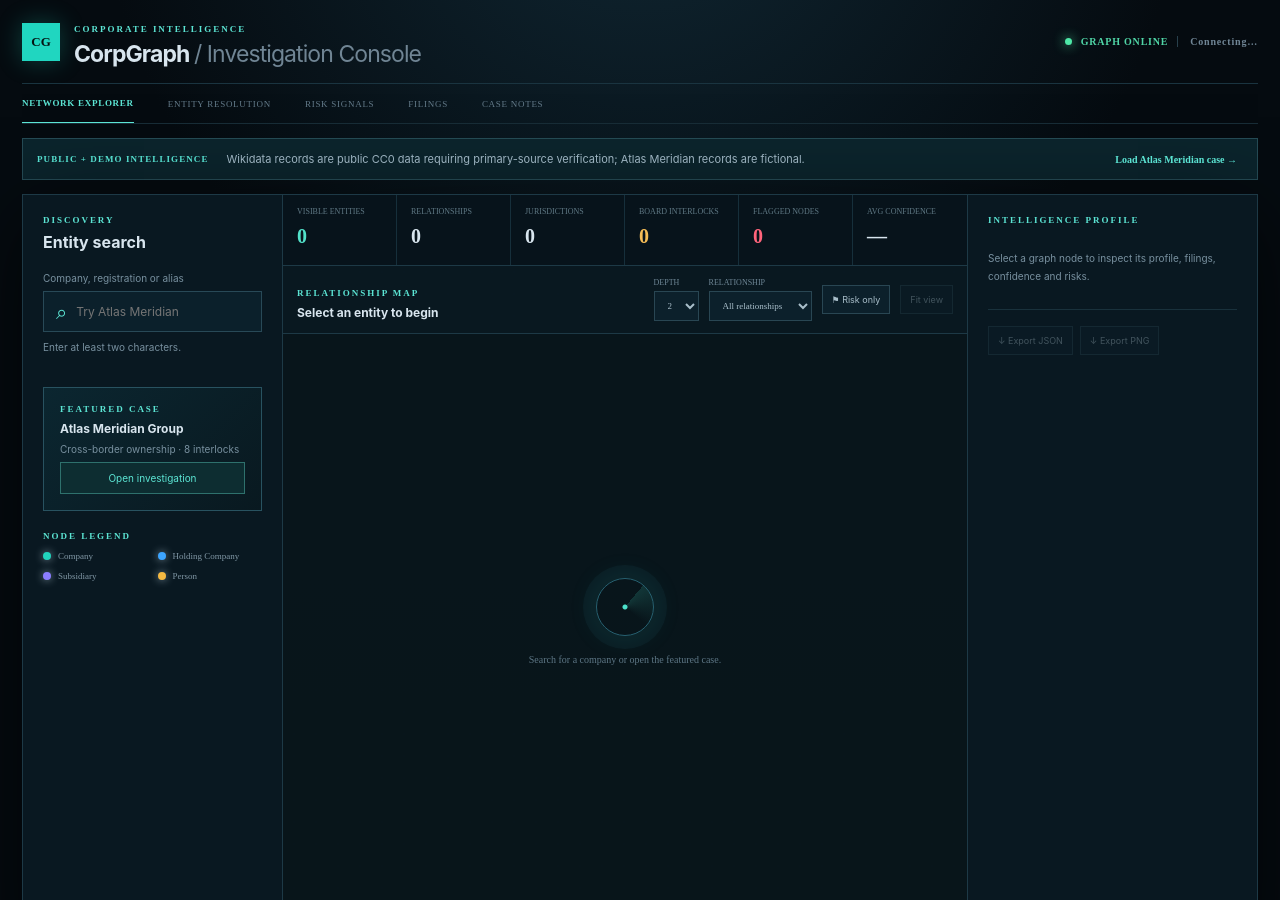
reports network HTTP failures
This screenshot has width=1280, height=900.
Click the button "Open investigation" at (152, 478), box [60,462,245,494]
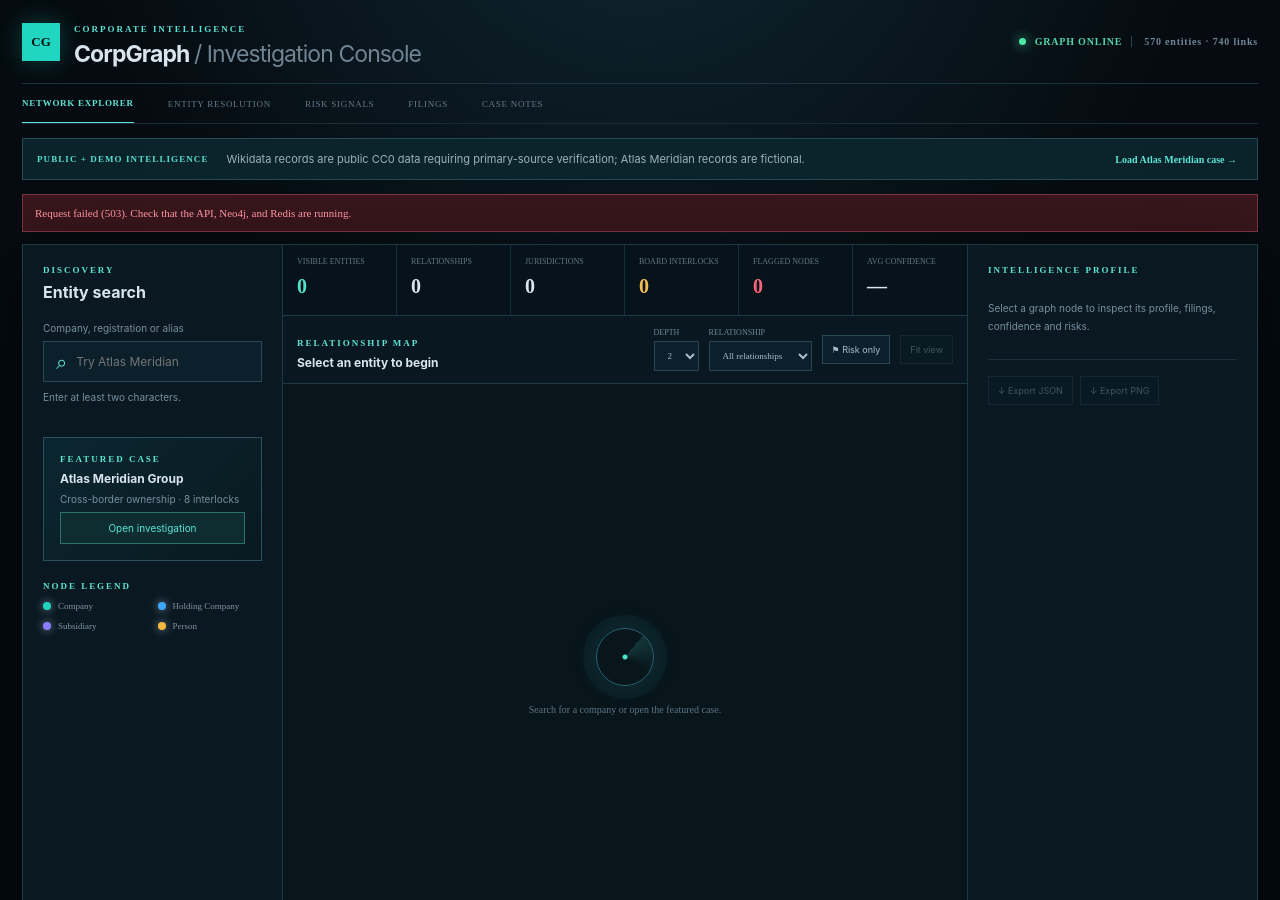
Check: the message shows "503", box [35,207,351,219]
